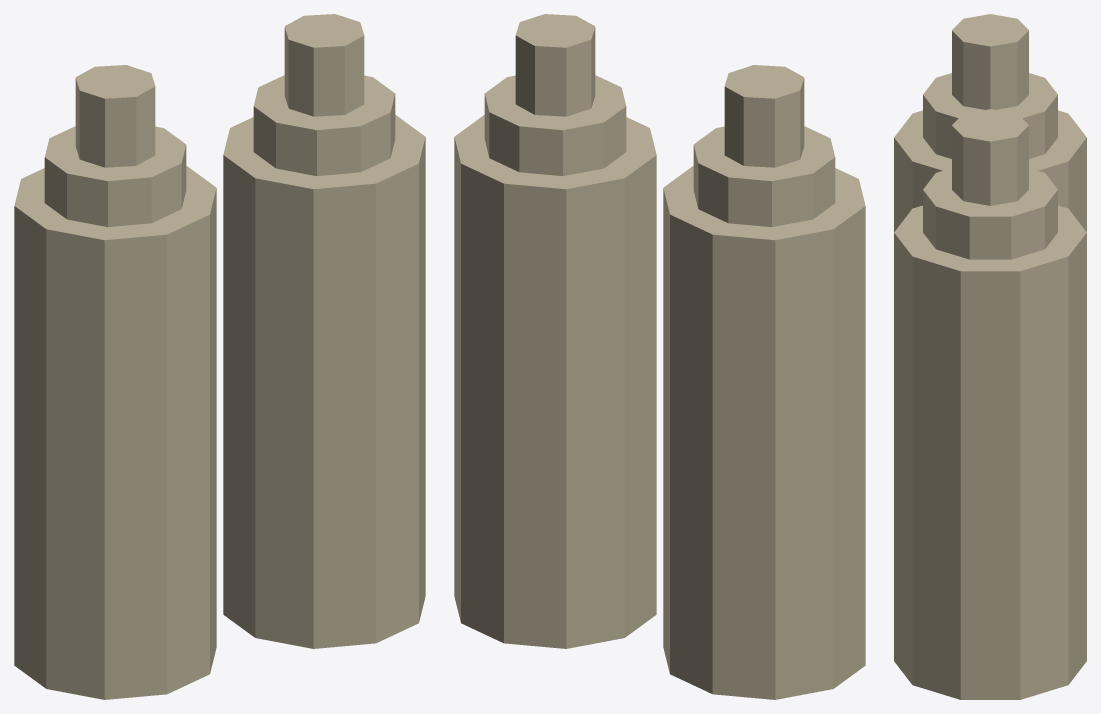
Rendered from set_soap_dispenser.glb.
The picture shows the model from 3 angles, left to right: view 1: azimuth 30°, elevation 25°; view 2: azimuth 150°, elevation 25°; view 3: azimuth 270°, elevation 25°; orthographic projection. The views are drawn at different scales.
Parts seen in each view (by area): view 1: set_soap_dispenser; view 2: set_soap_dispenser; view 3: set_soap_dispenser.
Boxes of the visible parts, x1,y1,x2,y2 form: set_soap_dispenser: [14, 14, 425, 699]; set_soap_dispenser: [454, 14, 865, 699]; set_soap_dispenser: [894, 14, 1086, 699].
Bounding box in the file's own units: 0.1271 × 0.184 × 0.06.
